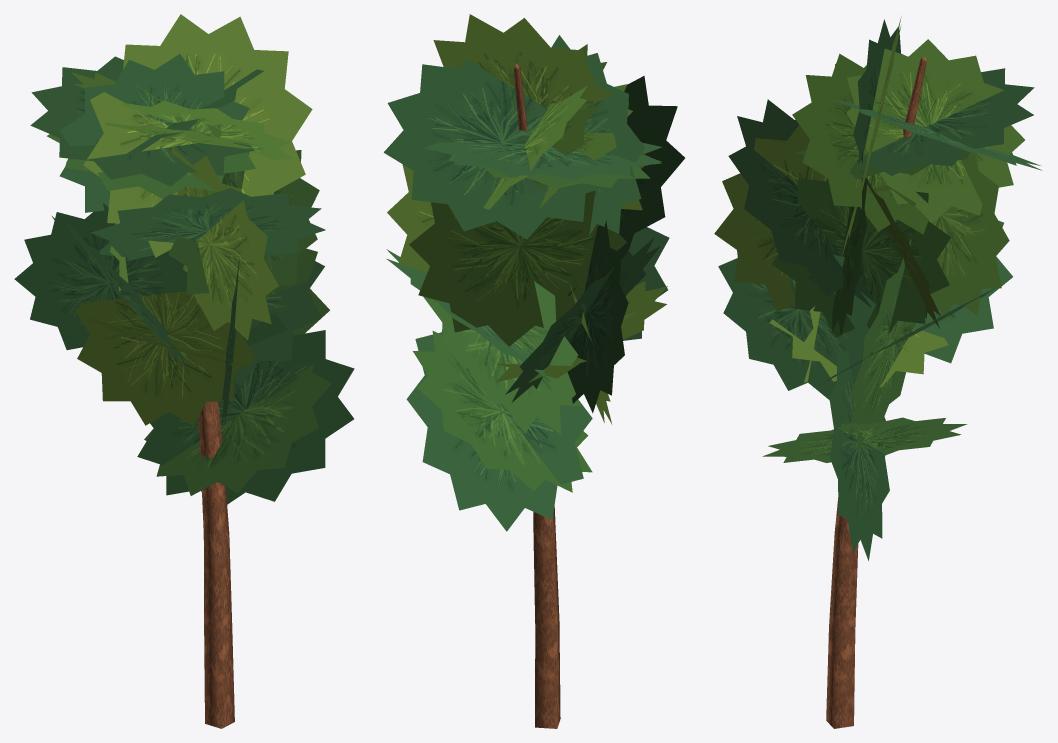
Rendered from hero_pine_a_lod2.obj.
The picture shows the model from 3 angles, left to right: view 1: azimuth 30°, elevation 25°; view 2: azimuth 150°, elevation 25°; view 3: azimuth 270°, elevation 25°; orthographic projection. The views are drawn at different scales.
Parts seen in each view (by area): view 1: hero_pine_a_lod2; view 2: hero_pine_a_lod2; view 3: hero_pine_a_lod2.
Part boxes in pixels (x1,y1,x2,y2): hero_pine_a_lod2: (14, 14, 354, 728); hero_pine_a_lod2: (384, 14, 684, 728); hero_pine_a_lod2: (714, 17, 1042, 728).
Size of the model in its own units: 7.54 by 18.17 by 7.81.
2 materials, 2 textured.
